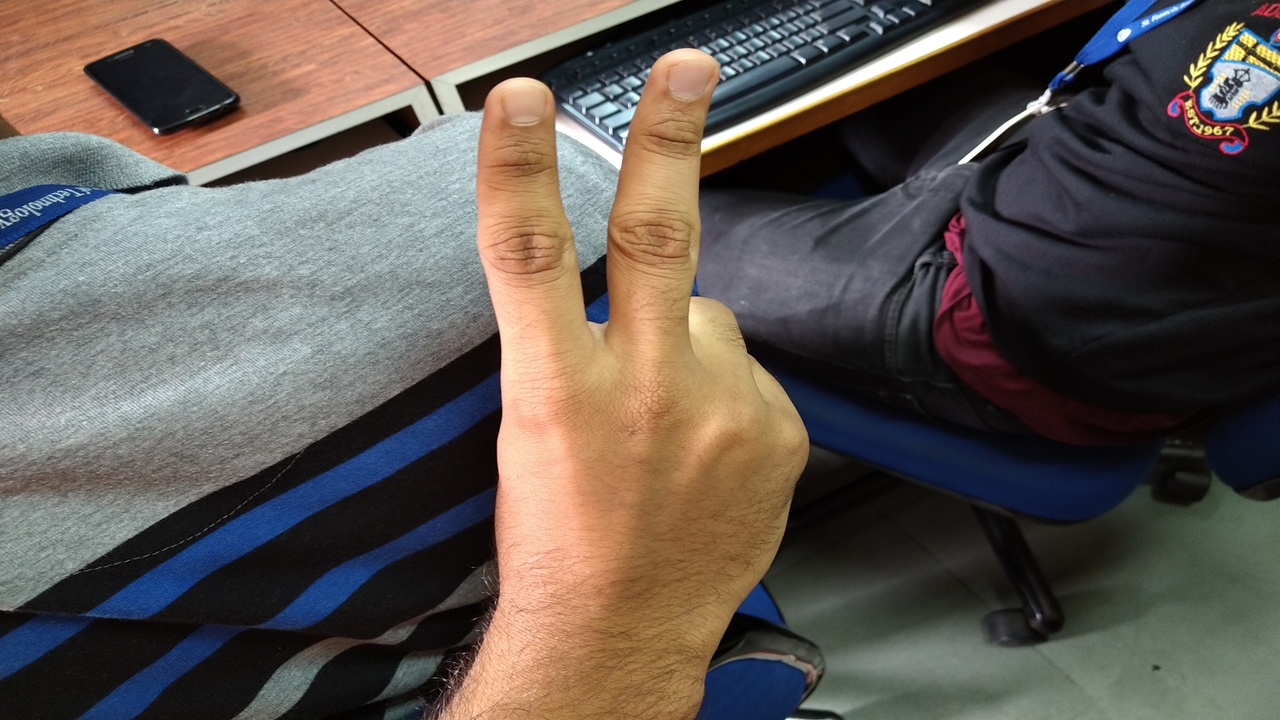fingertip: (472, 72, 554, 140), (646, 46, 724, 108)
